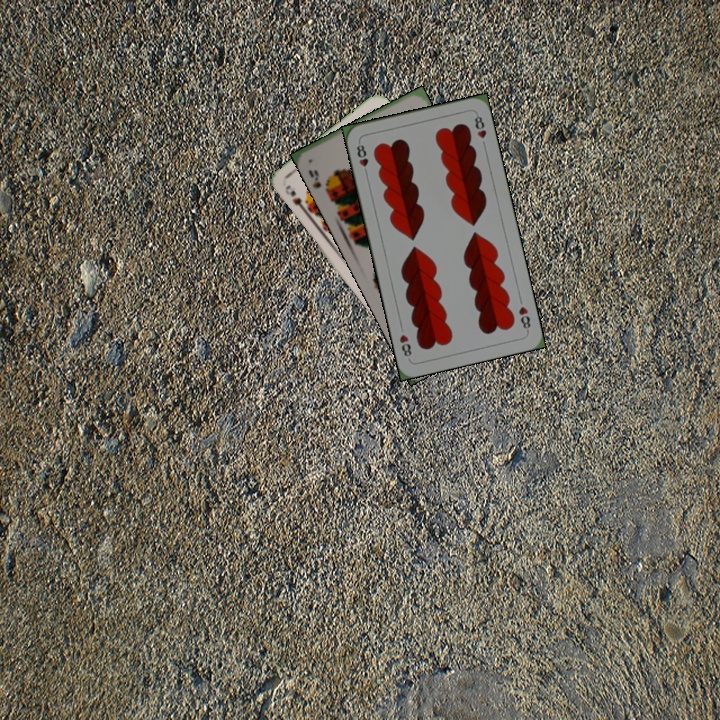H8: (353, 138, 371, 178), (514, 302, 533, 334)
S9: (304, 166, 332, 197), (286, 186, 313, 216)
